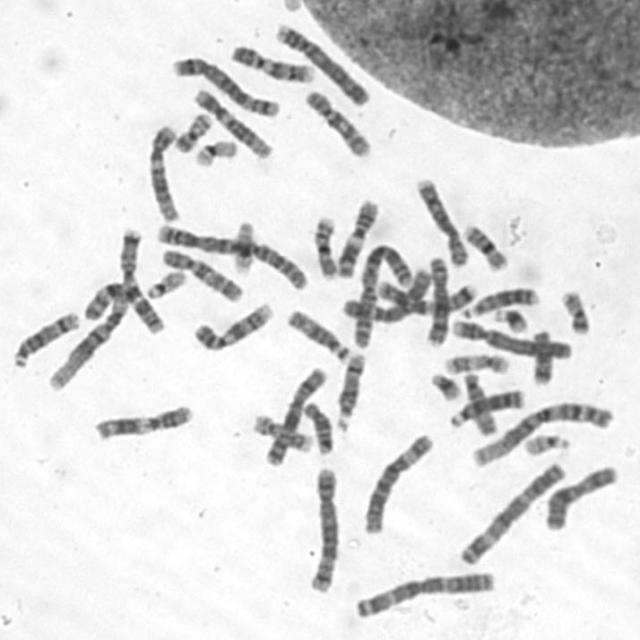A1: (467, 398, 616, 468), (45, 279, 133, 391)
A2: (152, 220, 311, 291), (348, 243, 418, 349)
A3: (456, 458, 568, 566), (348, 567, 498, 622)
B4: (272, 20, 372, 107), (450, 316, 573, 360)
B5: (168, 52, 280, 120), (304, 463, 341, 595)
C10: (301, 85, 373, 160), (158, 244, 244, 304)
C11: (90, 401, 196, 441), (334, 196, 381, 280)
C12: (191, 85, 274, 161), (145, 122, 181, 223)
C6: (360, 430, 436, 534), (341, 266, 433, 325)
C7: (116, 225, 168, 334), (373, 277, 479, 316)
C8: (412, 174, 470, 270), (422, 252, 451, 346)
C9: (190, 298, 275, 353), (226, 41, 316, 85)
D13: (446, 385, 527, 429), (459, 284, 541, 320)
D14: (10, 308, 81, 370), (332, 351, 368, 431)
D15: (284, 306, 351, 363), (461, 369, 498, 437)
E16: (460, 220, 510, 274), (311, 213, 340, 279)
E17: (250, 412, 314, 454), (441, 350, 511, 376)
E18: (300, 398, 334, 458), (528, 326, 554, 388)
F19: (229, 218, 258, 276), (191, 136, 238, 170)
F20: (170, 110, 214, 155), (558, 286, 590, 336)
G21: (492, 304, 532, 336), (428, 369, 462, 402)
G22: (144, 267, 189, 300), (522, 429, 572, 456)
X: (261, 363, 330, 468), (540, 462, 620, 532)
